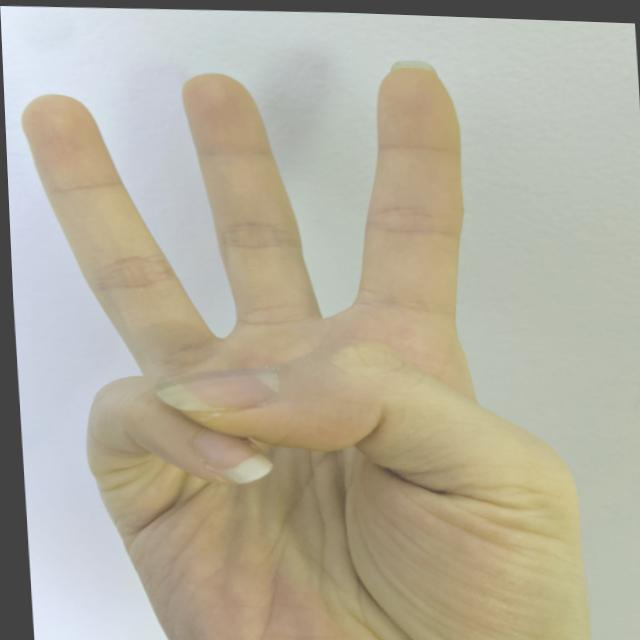W: (1, 33, 603, 639)
